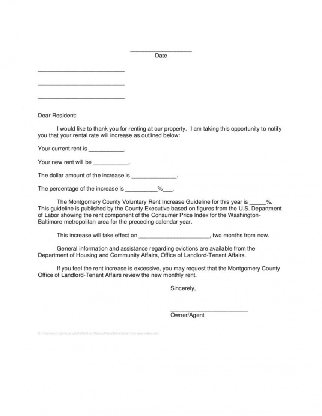textline: (169, 295, 250, 315), (127, 38, 194, 56), (34, 89, 126, 102), (35, 61, 126, 74), (138, 226, 211, 242), (35, 76, 127, 88), (132, 167, 178, 182), (90, 156, 134, 169), (89, 142, 126, 154), (127, 180, 158, 194), (250, 195, 267, 207), (162, 183, 176, 194)
